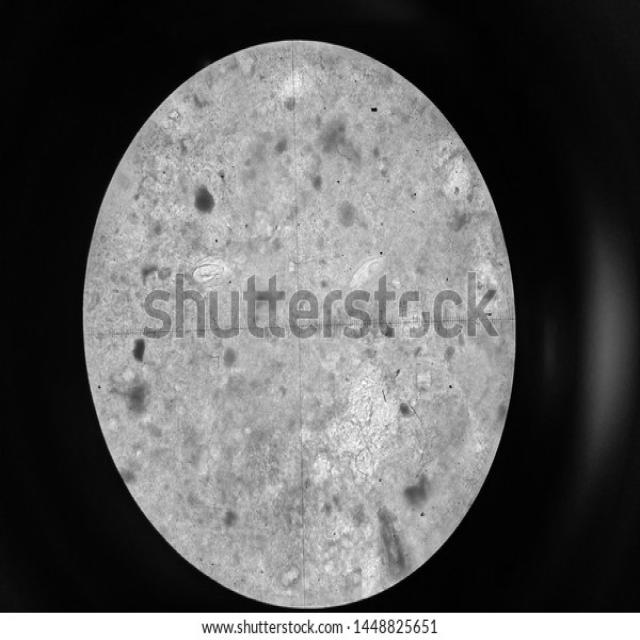Enterobius Vermicularis: (345, 252, 389, 297), (188, 254, 241, 288)
